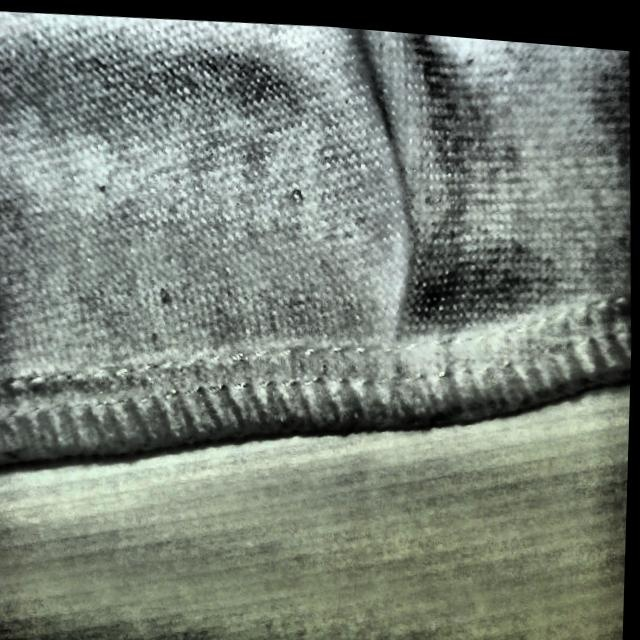seam: (322, 68, 514, 436)
